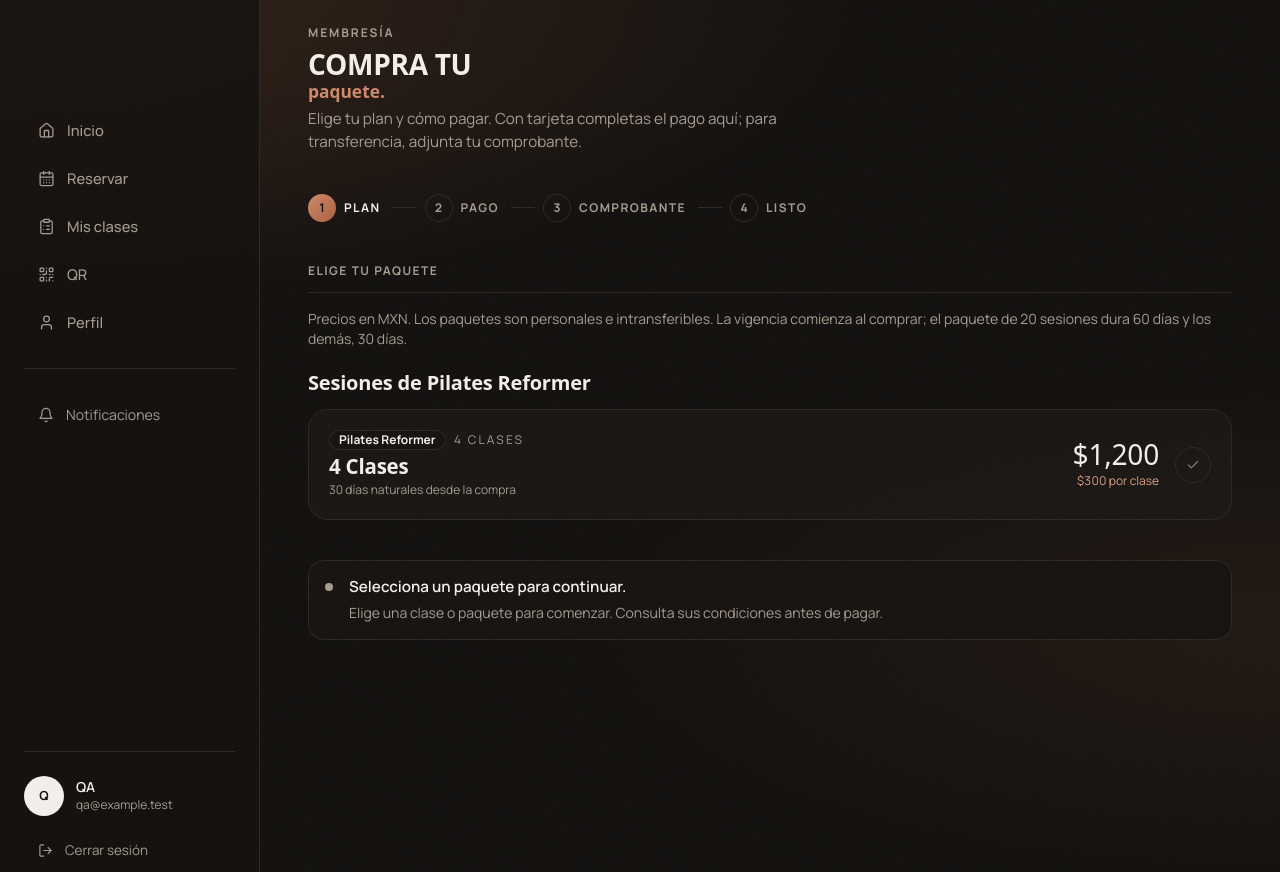
Test: no ofrece tarjeta operativa cuando Mercado Pago no está configurado
The width and height of the screenshot is (1280, 872).
Click the button "4 clases".
click(770, 465)  # box x1=308 y1=409 x2=1232 y2=520
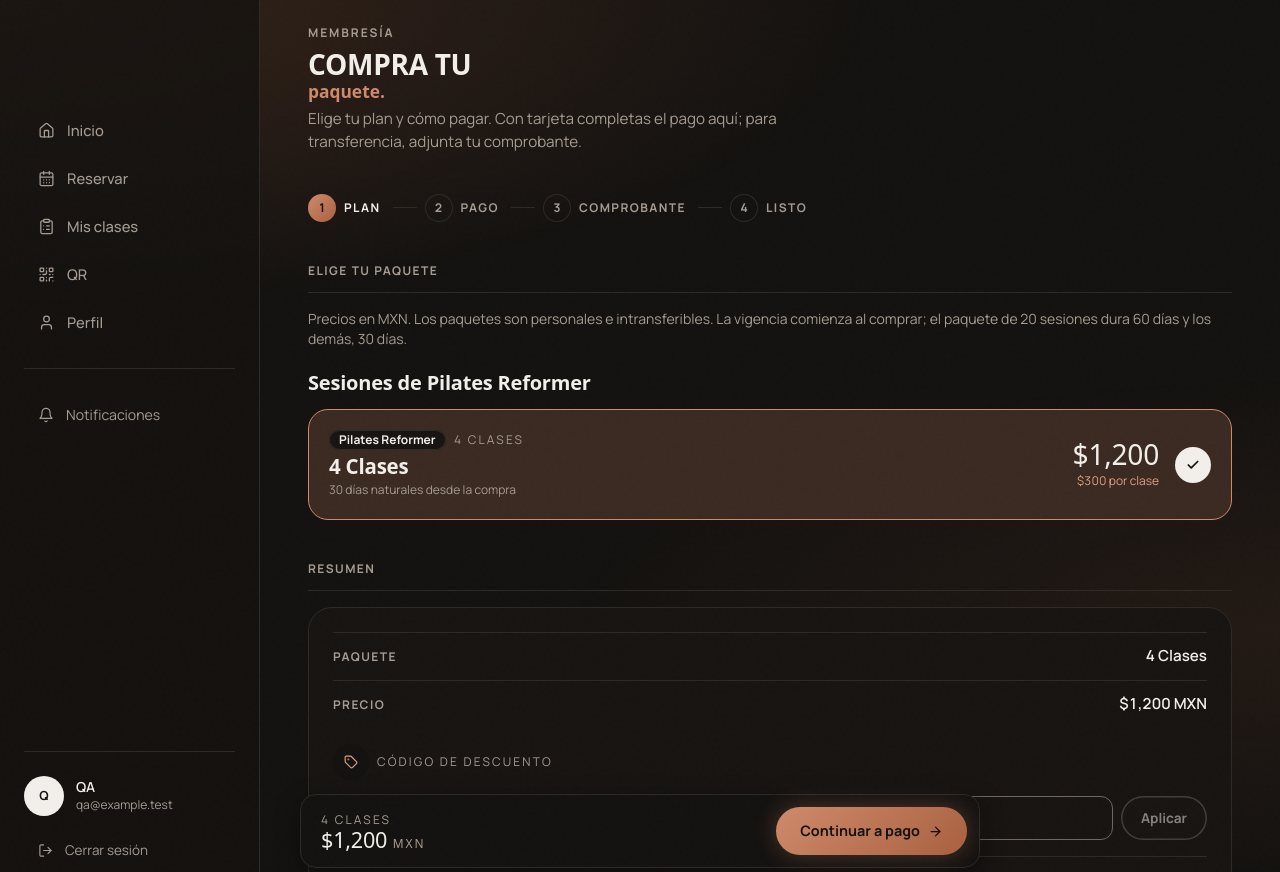
Click the button "Continuar a pago".
click(872, 831)  # box x1=776 y1=807 x2=967 y2=855
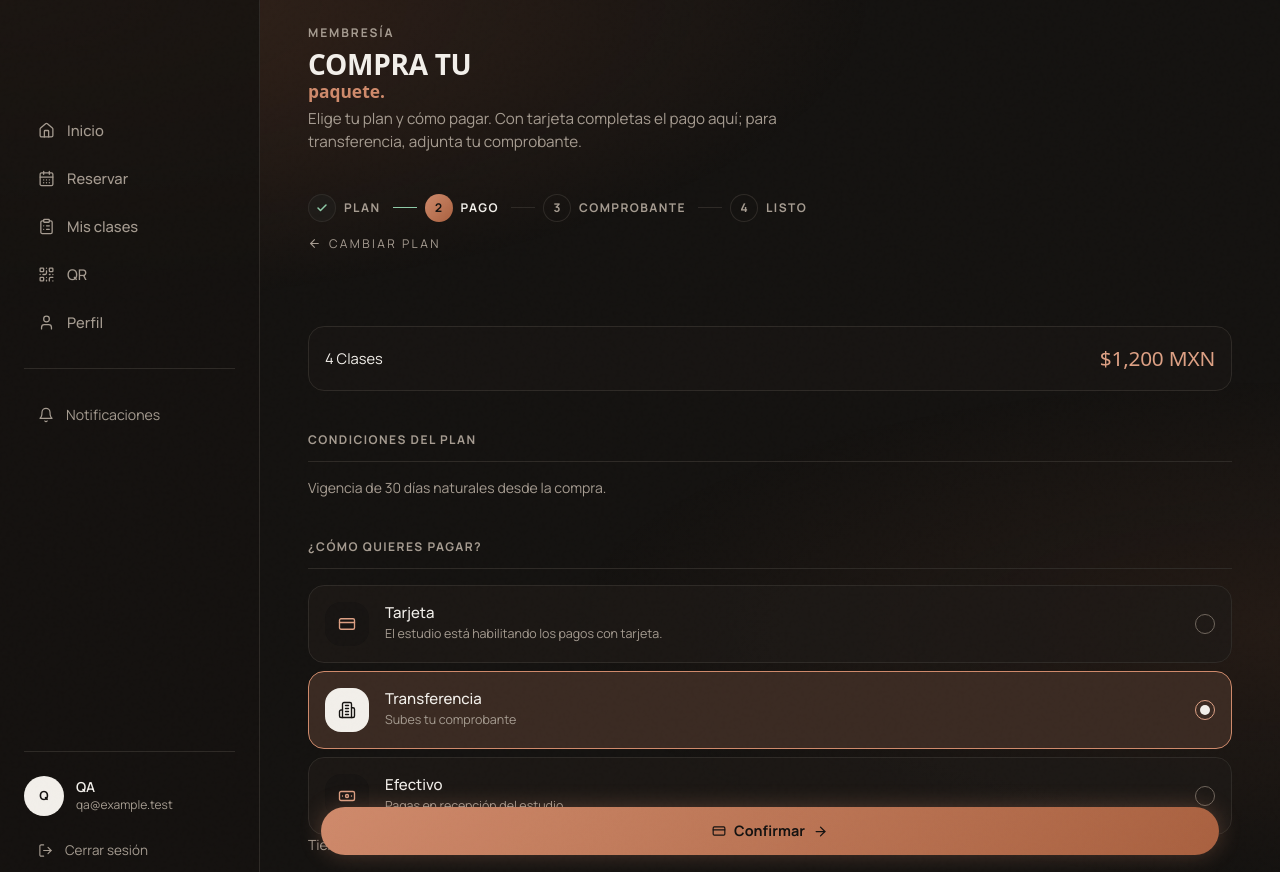
Expected: the radio button labelled "Tarjeta El estudio está habilitando los pagos con tarjeta." is disabled, x1=308 y1=585 x2=1232 y2=663
Expected: the text "El estudio está habilitando los pagos con tarjeta." is shown, x1=385 y1=625 x2=662 y2=642
